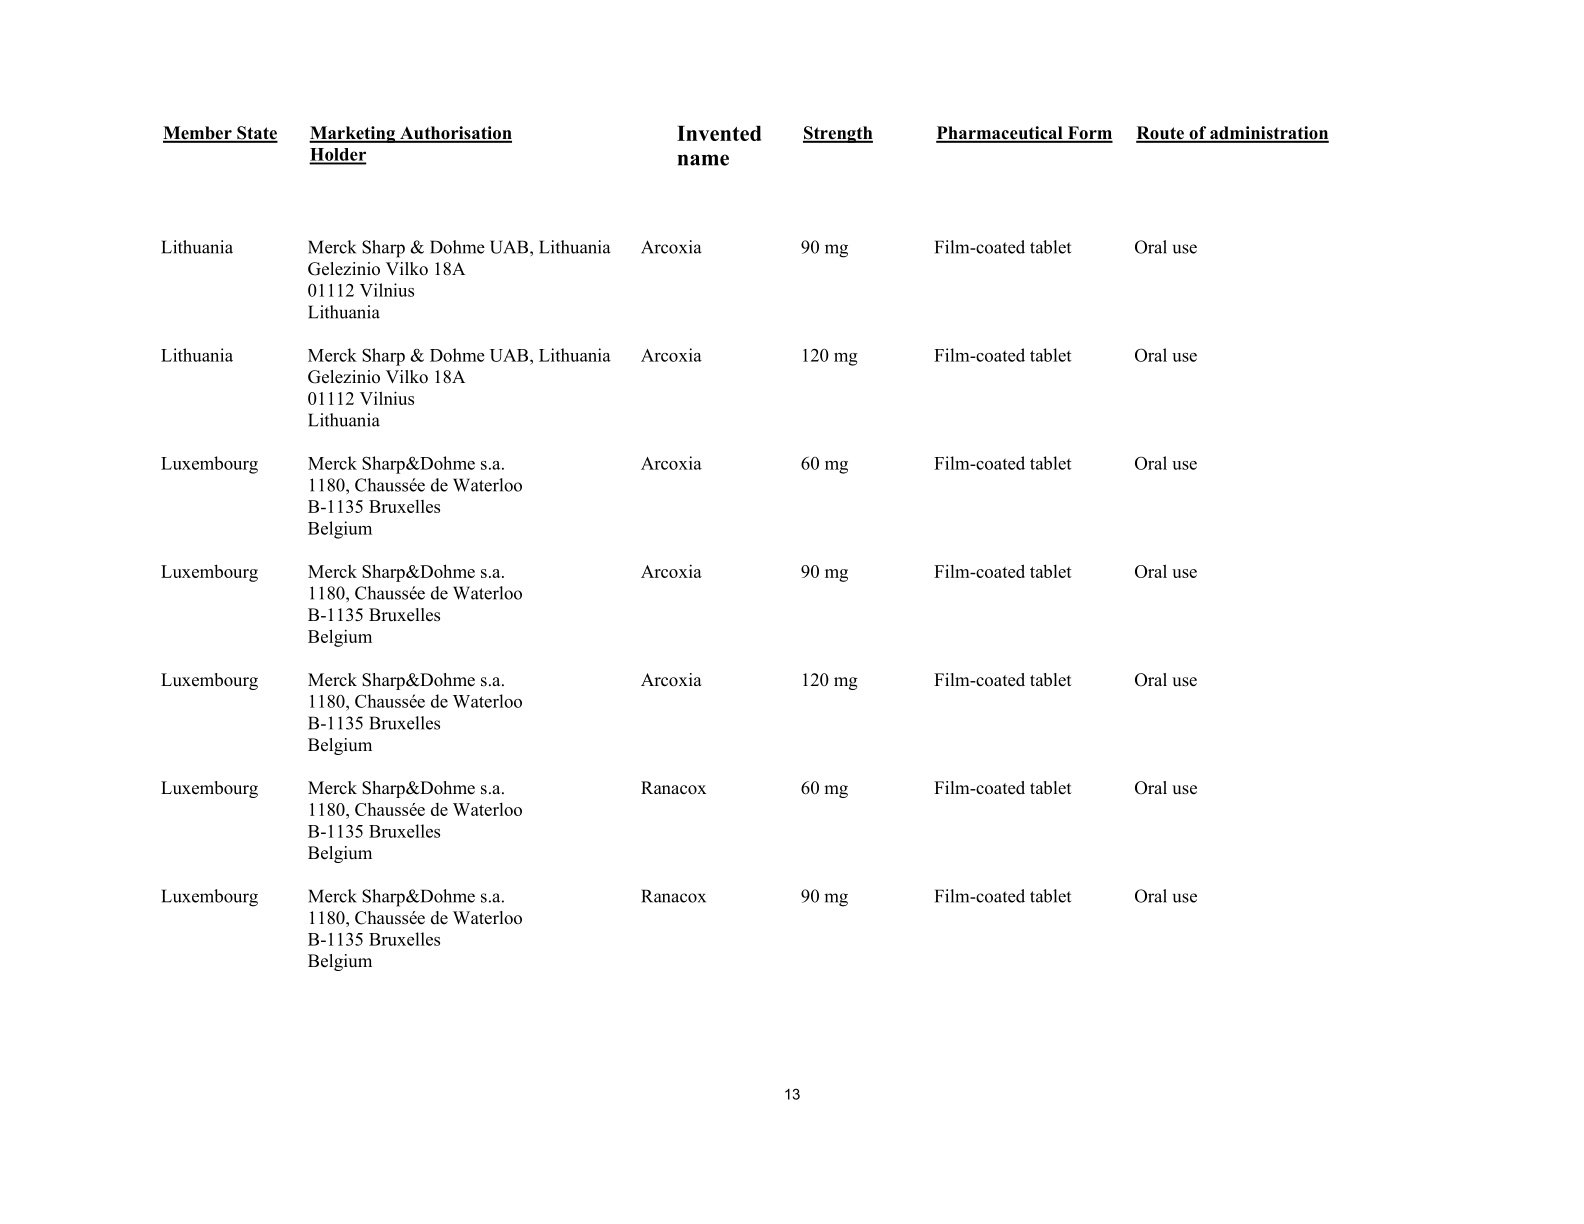nolines: (159, 122, 1327, 971)
